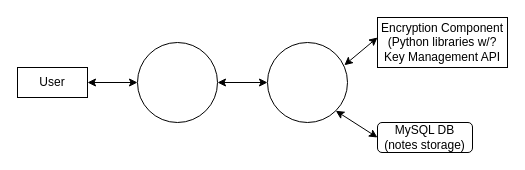
This 525x170 diagram has some shape labels left out. Here are the shapes that lost their labels. From the top down, the centre of each, then its label:
At [177,82]: "Front-End (Django)".
At [307,82]: "Back-End (Django)".
